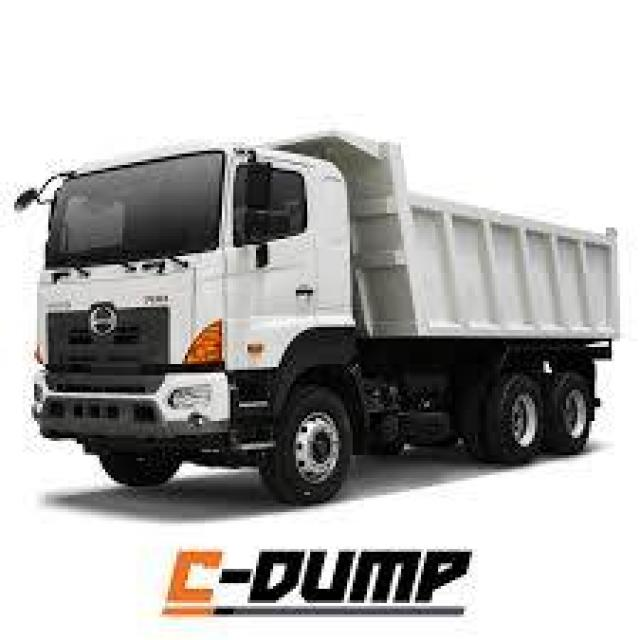dump_truck: (10, 129, 624, 511)
